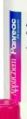ApplichemPanreac: (10, 18, 20, 98)
